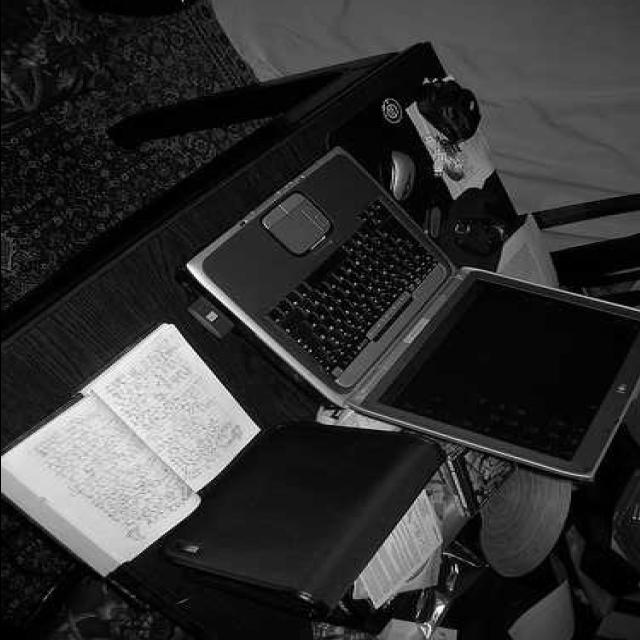laptop: (278, 176, 585, 457)
